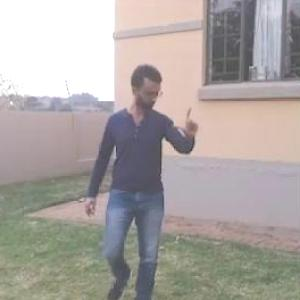land_hand: (166, 102, 208, 139)
